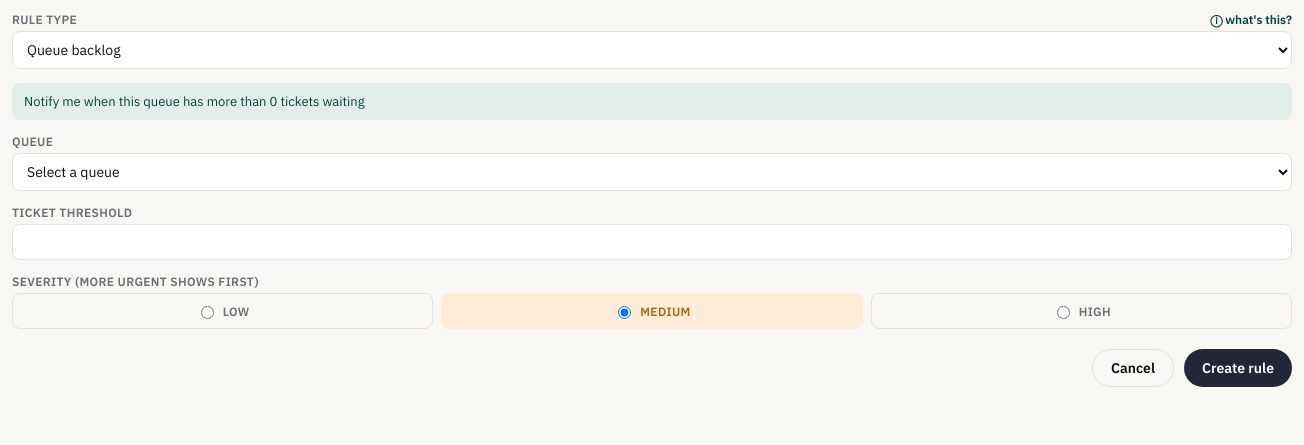
Scenario: RuleForm — entity selection › shows a whole-team checkbox that selects every known agent at once
Select "Long call" in the dropdown labelled "Rule type": (652,50) 12,31 -> 1292,69
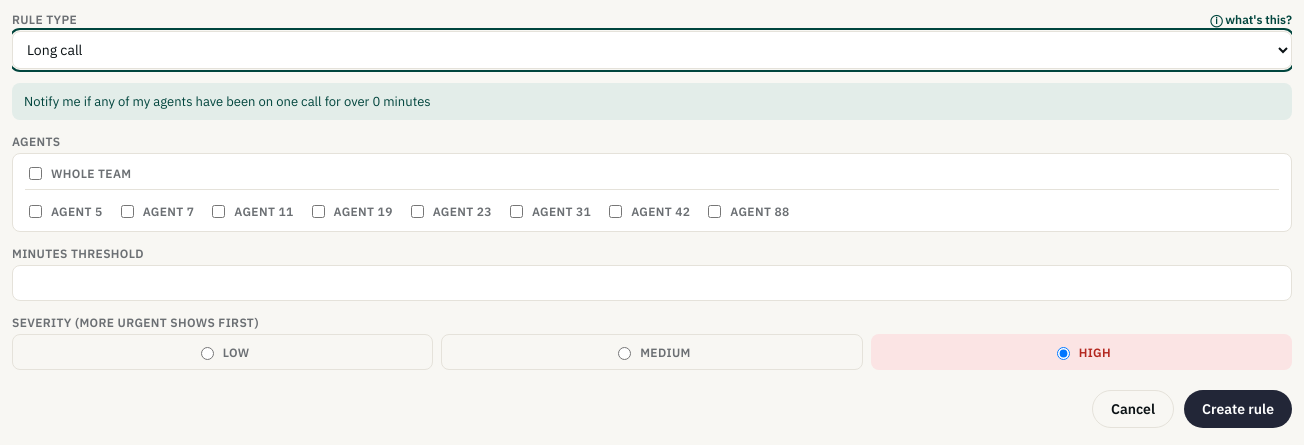
Click the checkbox labelled "Whole team": (36,174) 29,167 -> 42,180
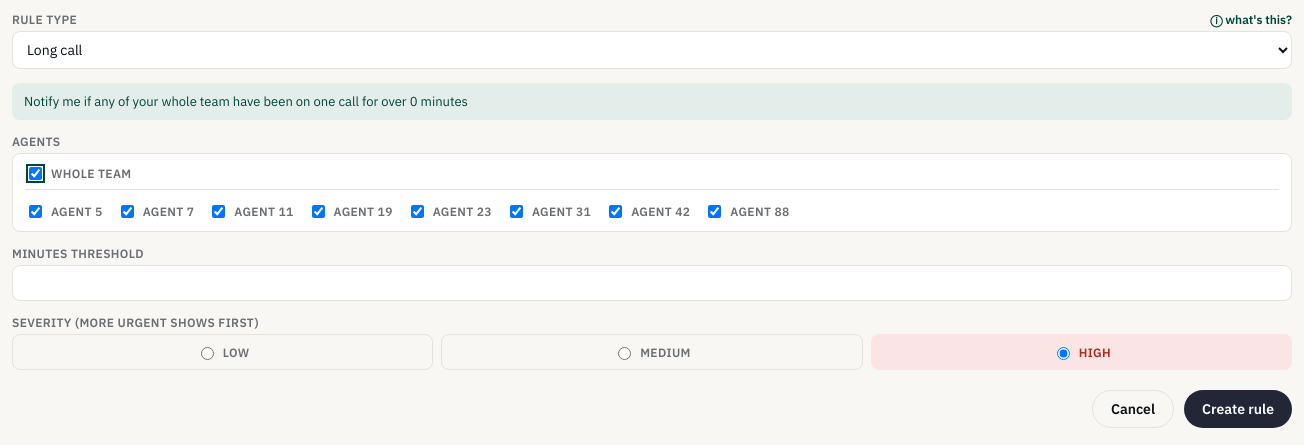
Now the checkbox labelled "Agent 31" is checked, box 510,205 -> 523,218
Now the checkbox labelled "Agent 5" is checked, box 29,205 -> 42,218
